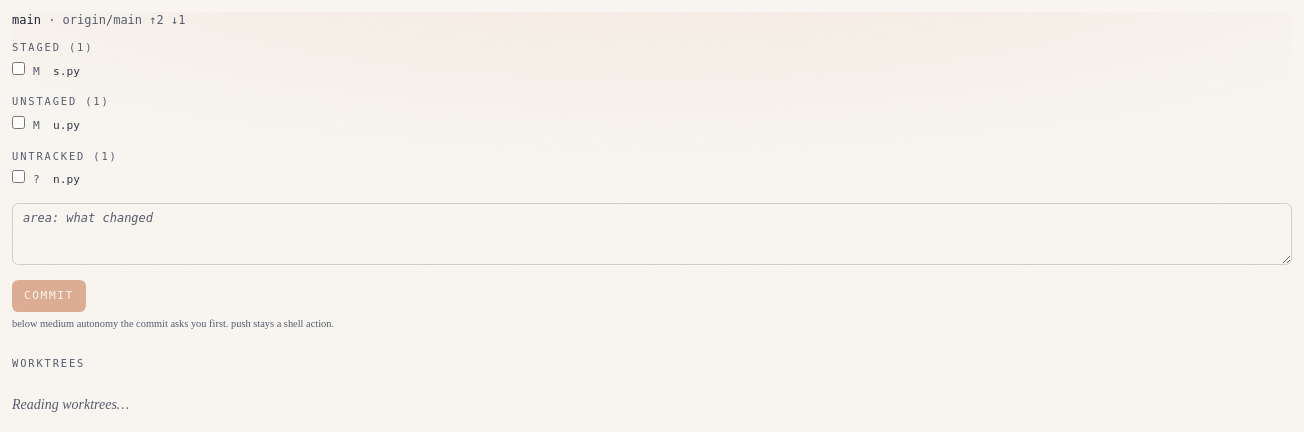
Test: GitPanel › enables commit only with ticked paths and a message, and posts just those
This screenshot has width=1304, height=432.
Expected: the text "main" is shown, [12,13,41,27]
Expected: the button "commit" is disabled, [12,280,86,312]
Click the checkbox named "unstaged u.py": click(18, 122) [12,116,25,129]
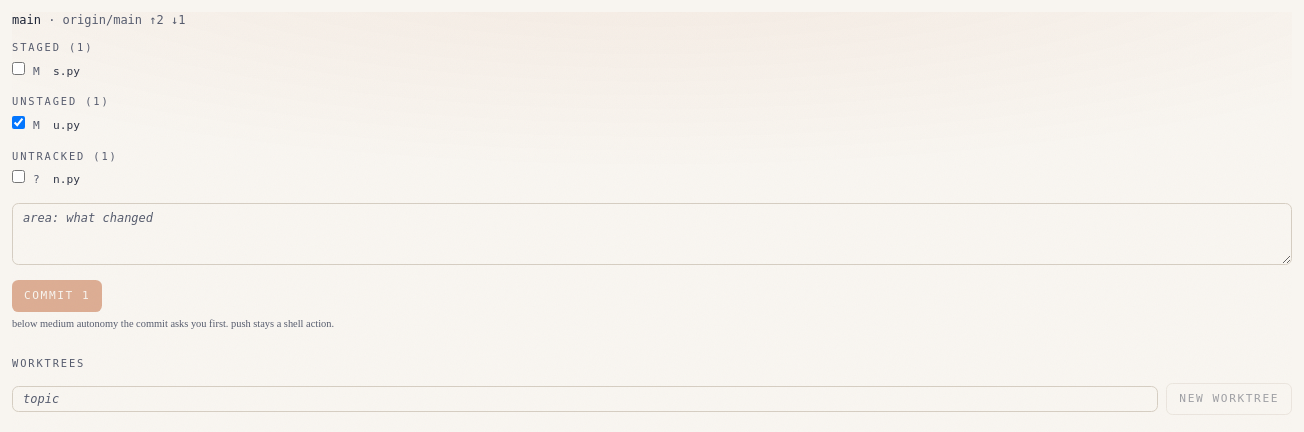
Expected: the button "commit 1" is disabled, [12,280,102,312]
In the text box named "commit message": (652, 234) [12,203,1292,265], type "gui: x"
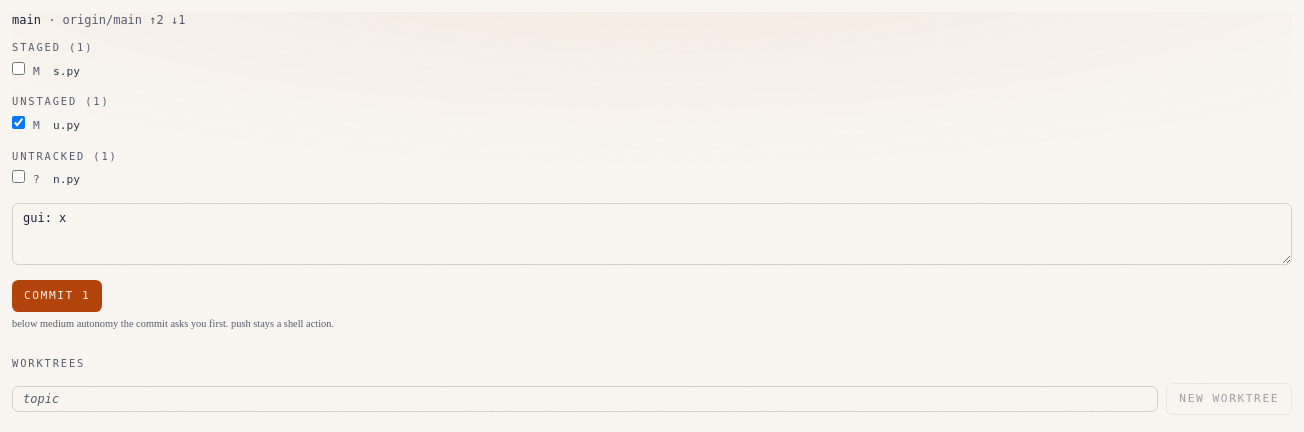
Result: the button "commit 1" is enabled at [12,280,102,312]
Click the checkbox named "untracked n.py": click(18, 177) [12,170,25,183]
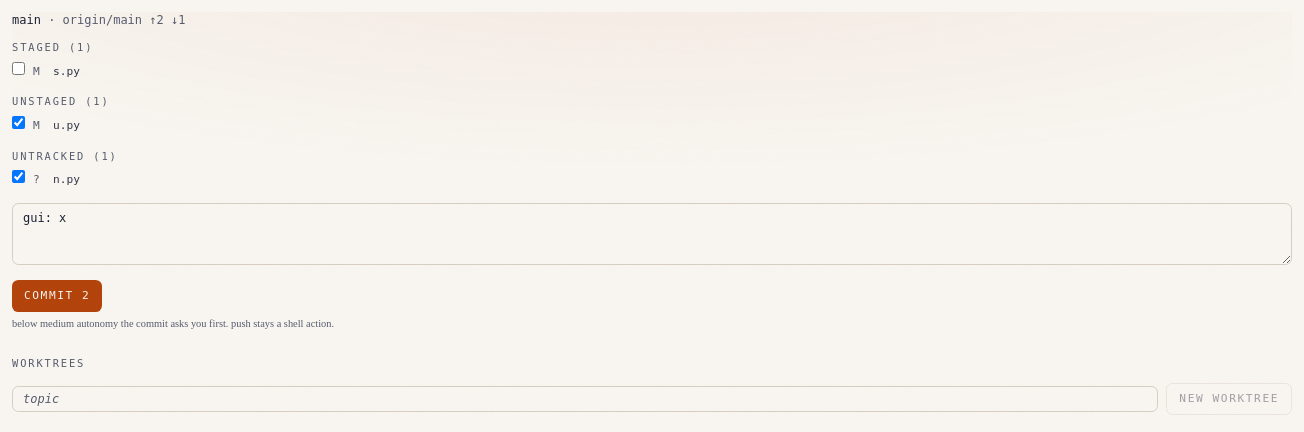
Click the checkbox named "untracked n.py": click(18, 177) [12,170,25,183]
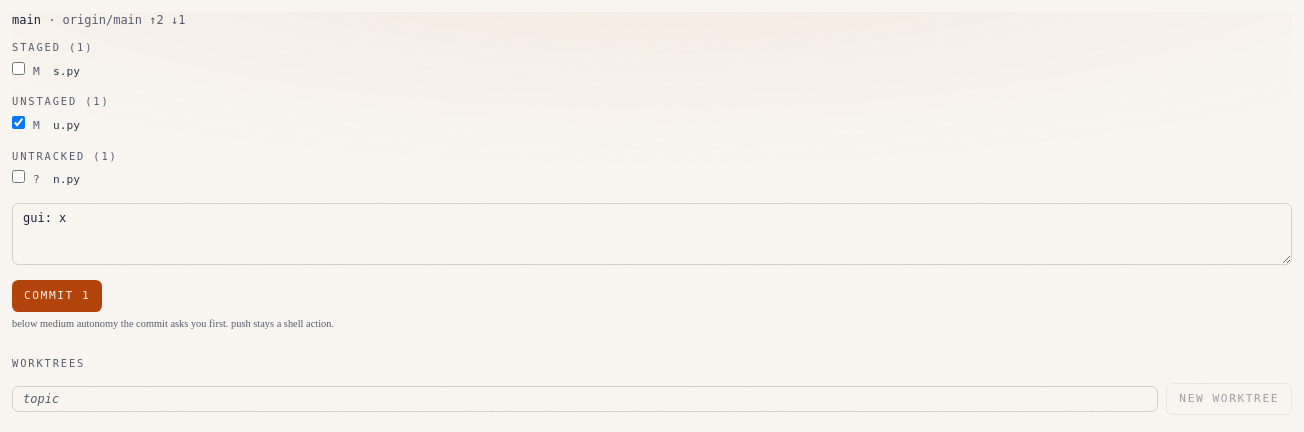
Click the button "commit 1": click(57, 296) [12,280,102,312]
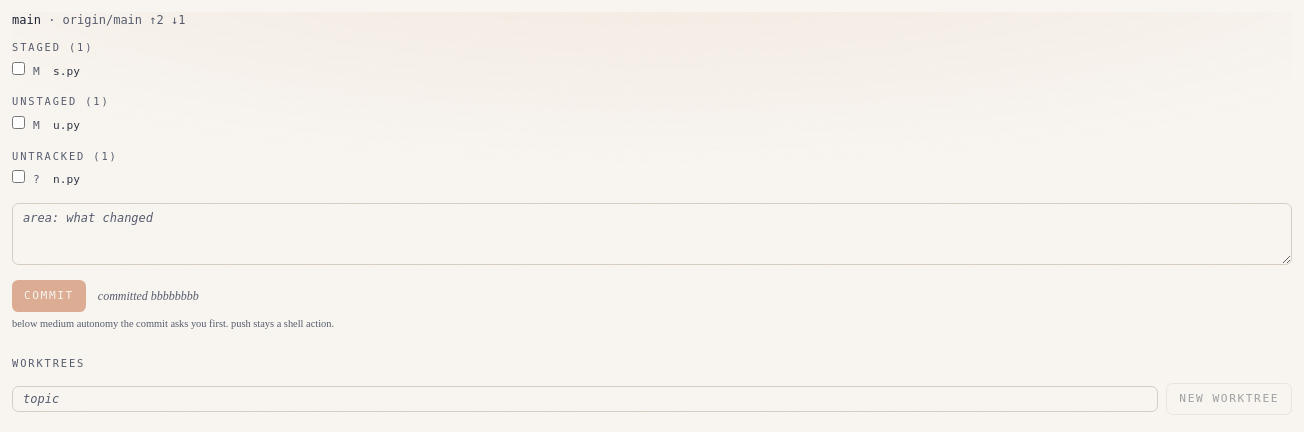
Result: the text "committed bbbbbbbb" is shown at [98,288,199,304]
